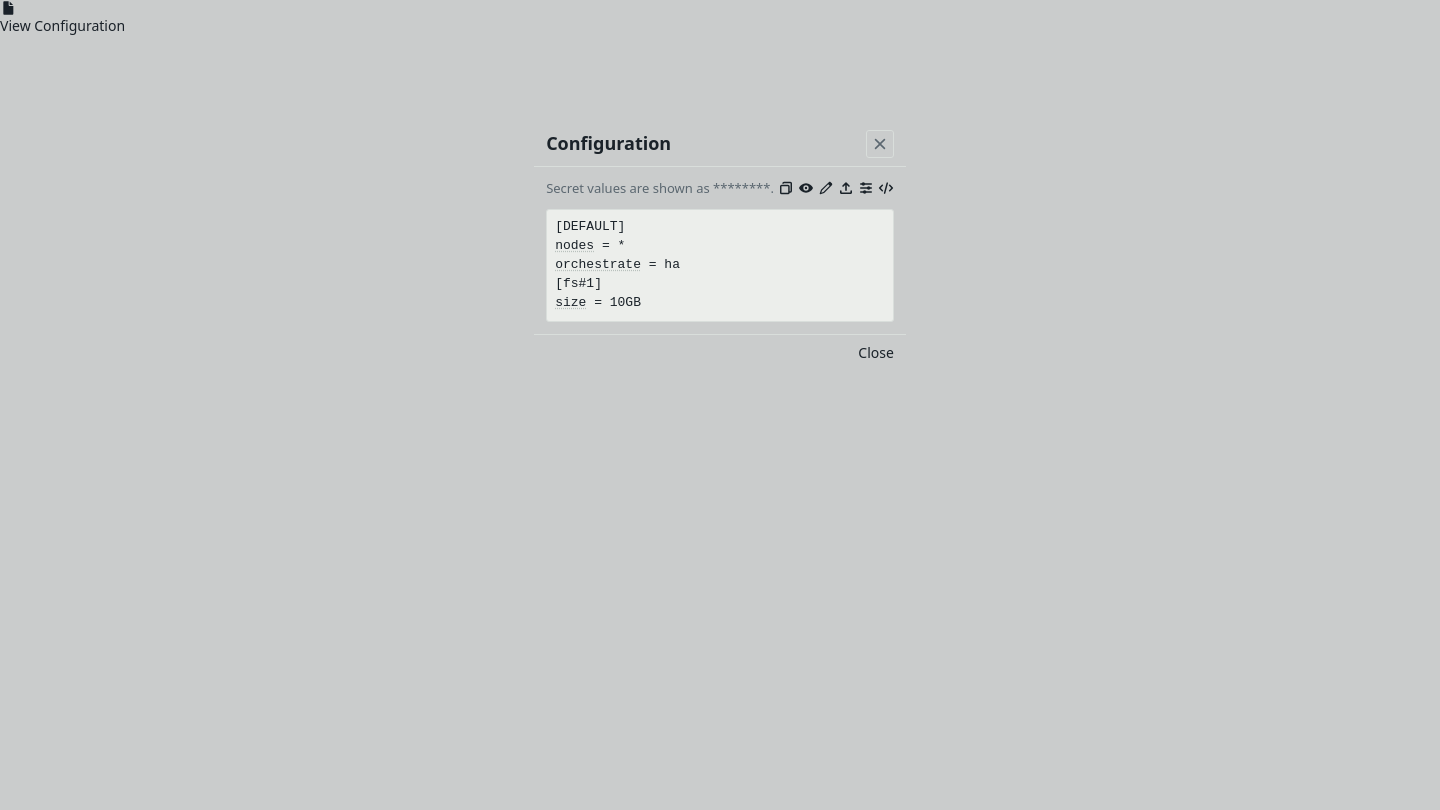
Scenario: ConfigSection Component › editing the file › says so when the file can not be loaded for editing
Expected: the element showing "nodes = *" is shown, top-left (555, 237), bottom-right (625, 256)
Click the 4th button named "Edit configuration file". click: (826, 188)
box: top-left (818, 180), bottom-right (834, 196)
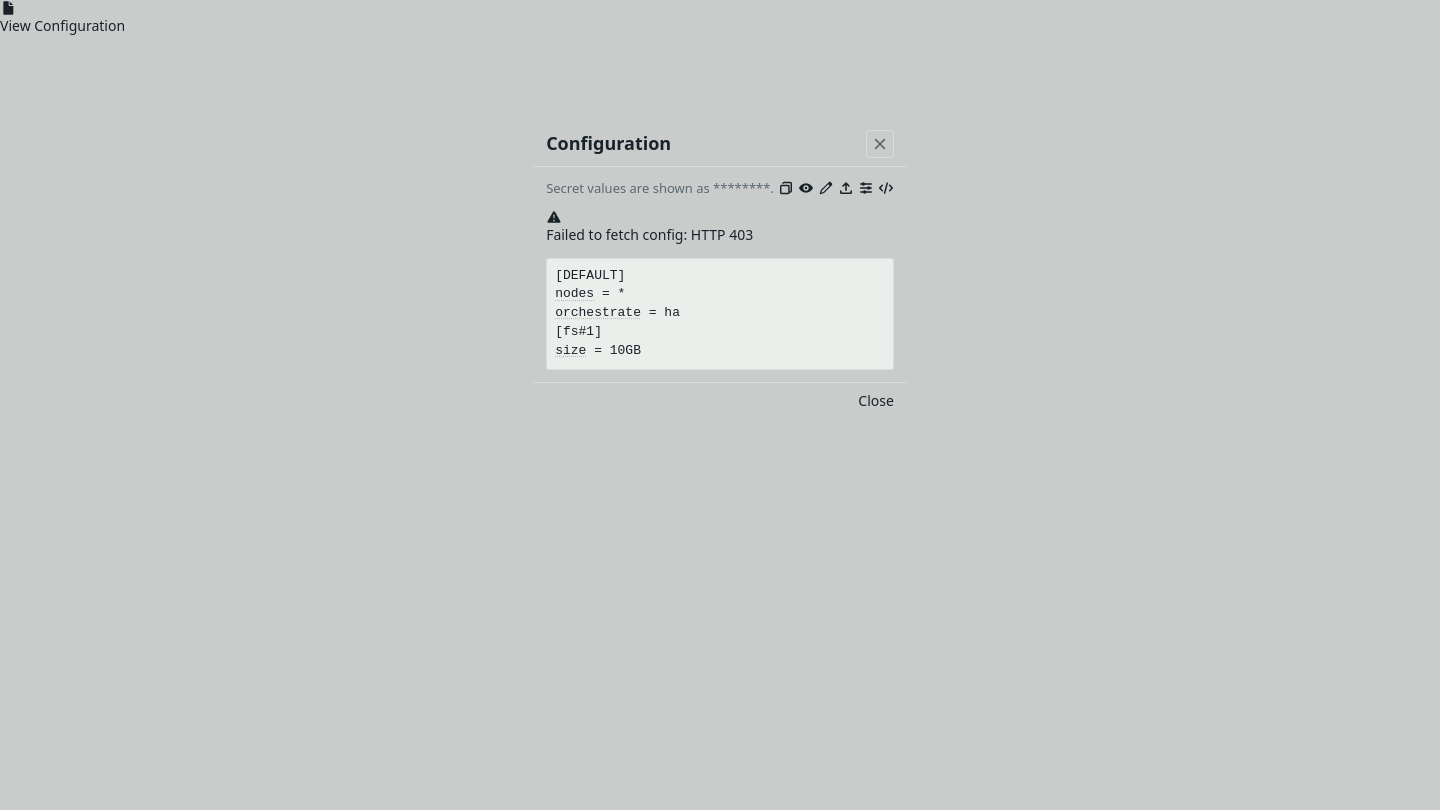
Expected: the text "Failed to fetch config: HTTP 403" is shown, top-left (546, 225), bottom-right (753, 244)
